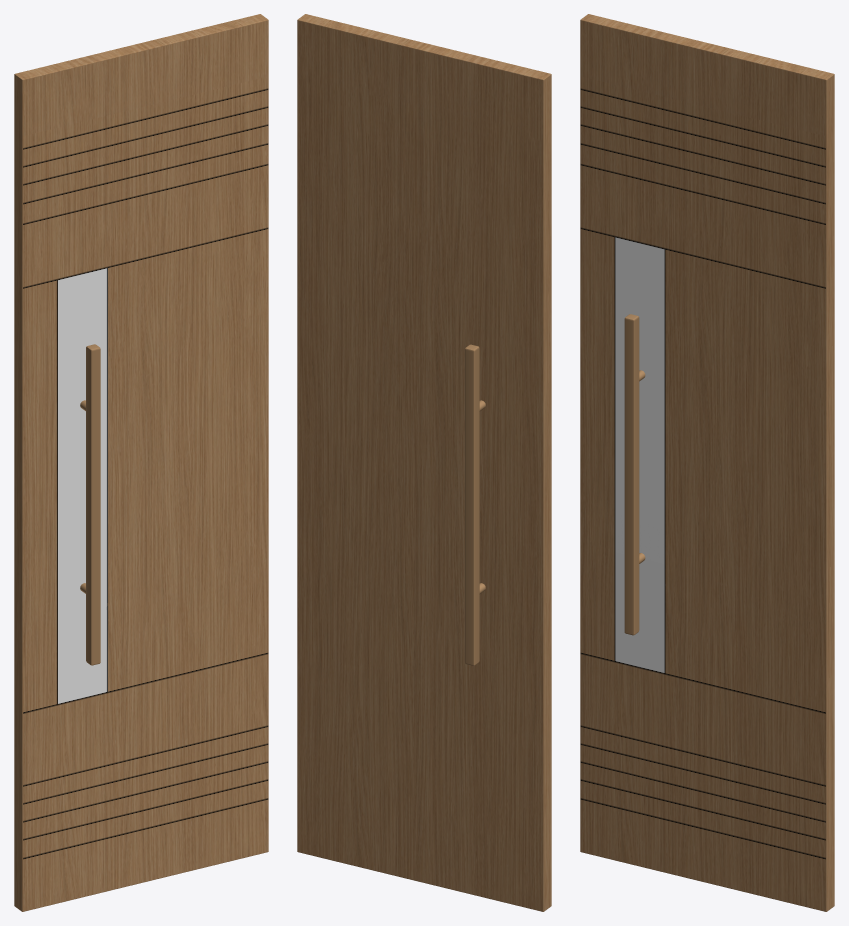
The model's file is VE_6_full2_door.glb.
3 renders of one model, left to right at view 1: azimuth 30°, elevation 25°; view 2: azimuth 150°, elevation 25°; view 3: azimuth 330°, elevation 25°, orthographic.
Visible parts, largest first — view 1: V_E_6__2_door; view 2: V_E_6__2_door; view 3: V_E_6__2_door.
Boxes of the visible parts, <box> form: V_E_6__2_door: <box>14,14,268,911</box>; V_E_6__2_door: <box>297,14,551,911</box>; V_E_6__2_door: <box>580,14,834,911</box>.
Bounding box in the file's own units: 0.5514 × 1.78 × 0.1311.
1 material, 1 textured.
